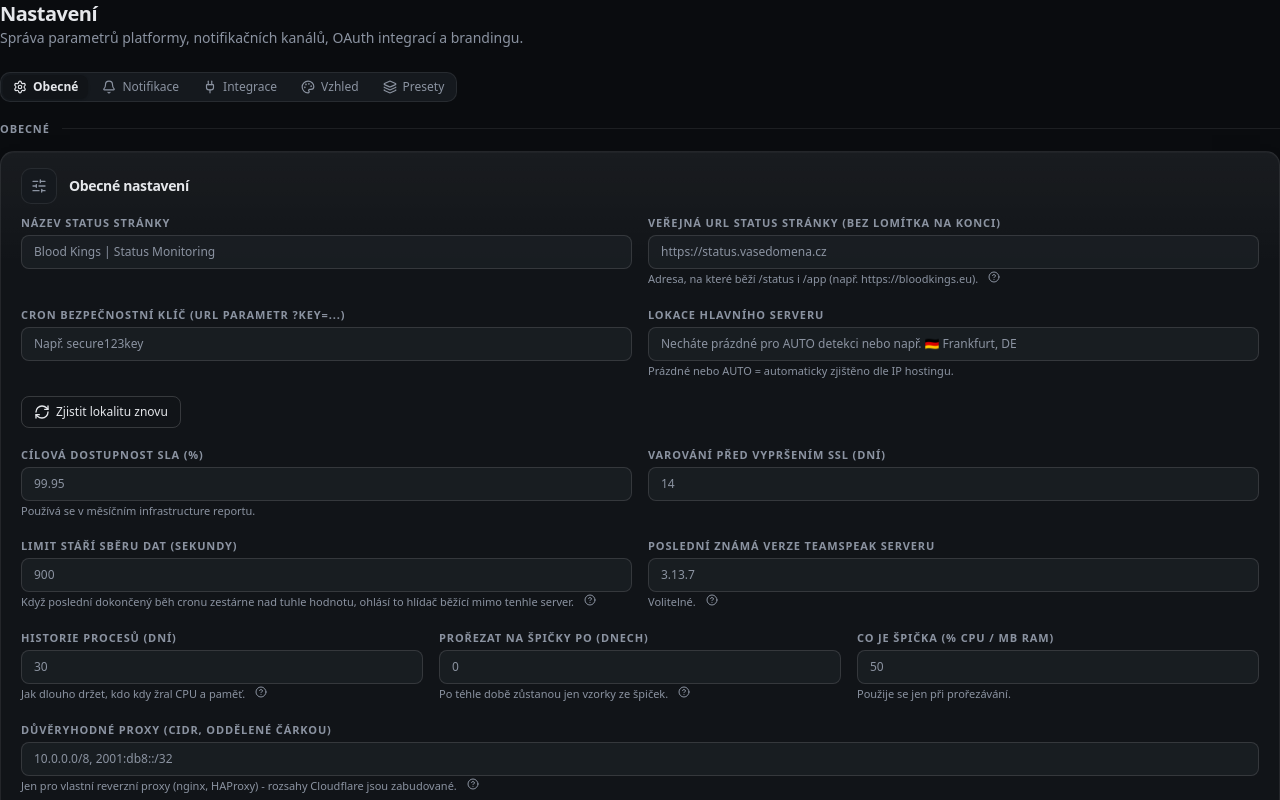
Scenario: Nastavení → Notifikace: kanály po řádcích (W2-11) › řádek říká, jestli je kanál nastavený, a pole ukáže až po kliknutí
This screenshot has width=1280, height=800.
What coordinates should you click on to do the following:
click the button "Notifikace"
I would click on:
 (141, 87)
Its box is [92,75,189,99].
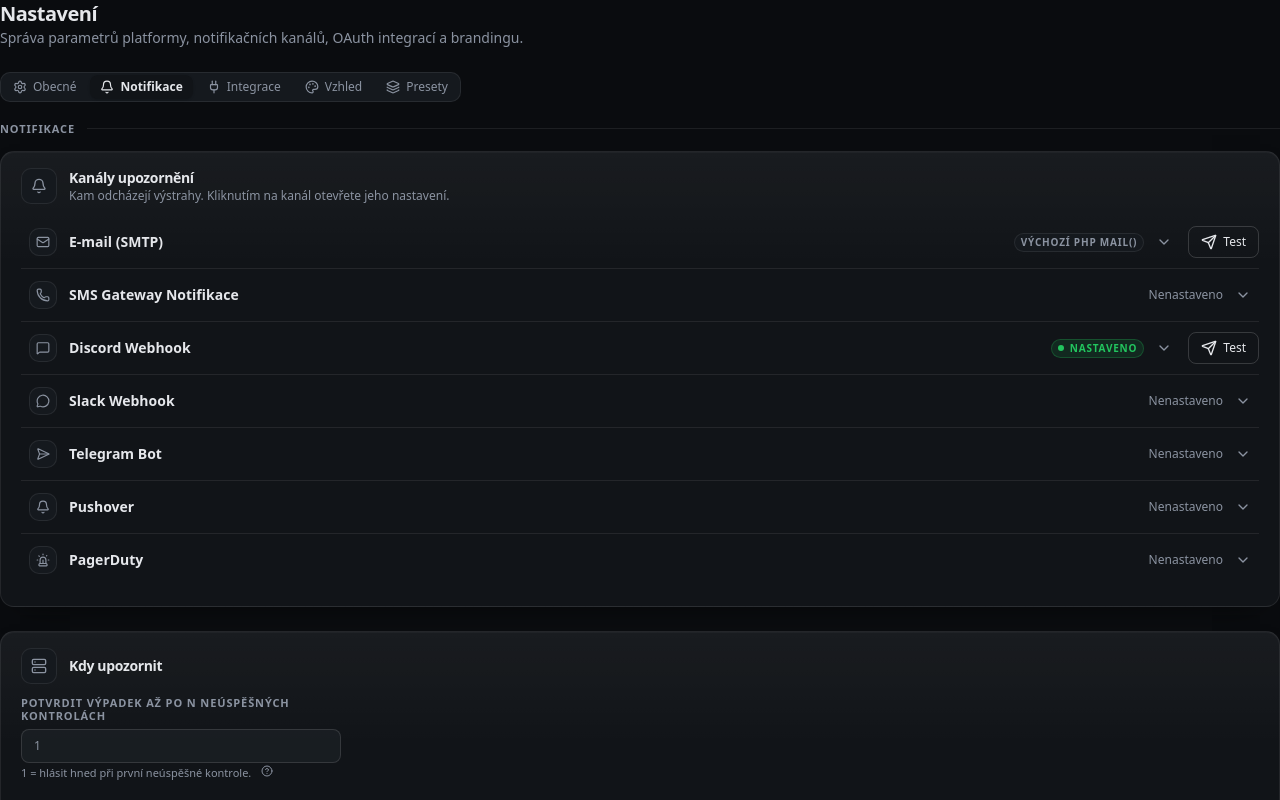
Check: the field labelled "Discord Webhook URL" is not shown
What coordinates should you click on to do the following:
click the button "Discord Webhook Nastaveno"
I would click on:
 (130, 348)
Its box is [21,326,1180,370].
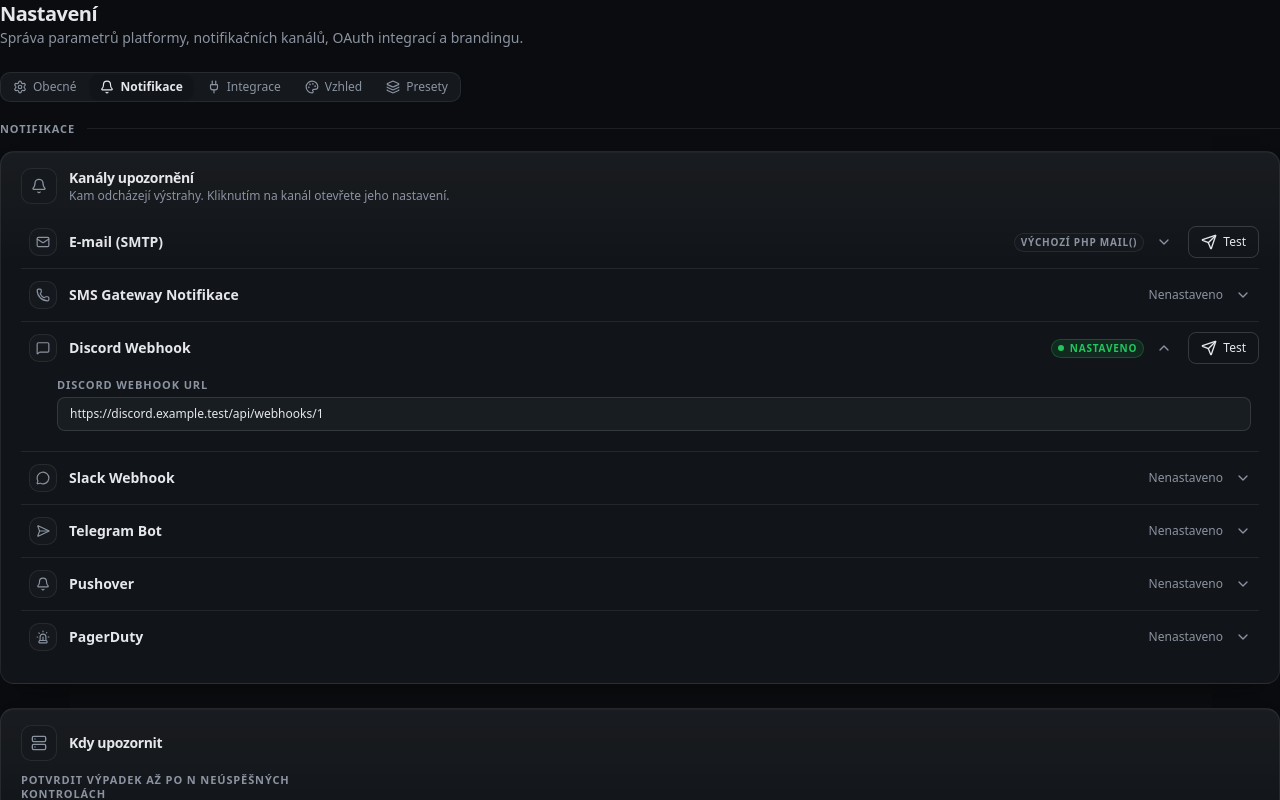
Check: the field showing "https://discord.example.test/api/webhooks/1" is shown, box [57,397,1251,431]
